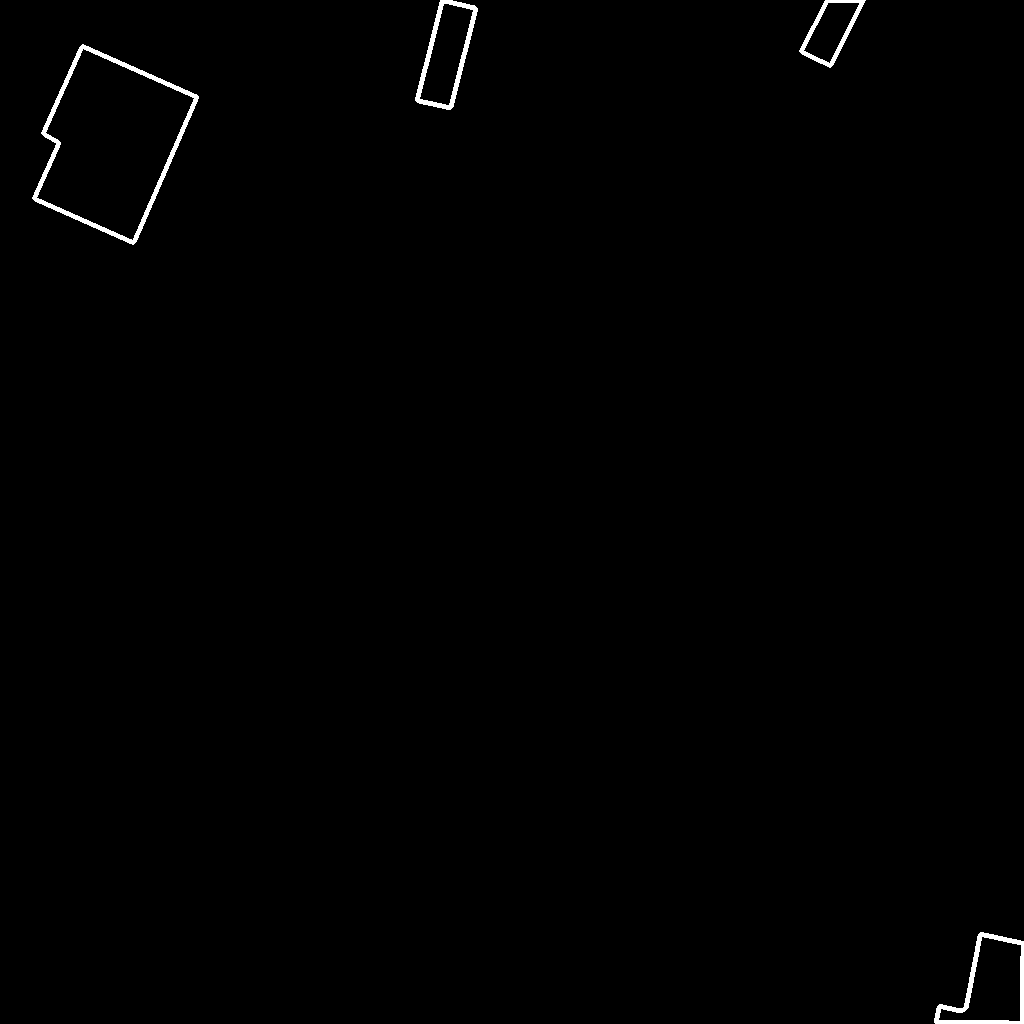building: (34, 46, 198, 244), (936, 934, 1024, 1024), (417, 0, 477, 109), (801, 0, 865, 67)
